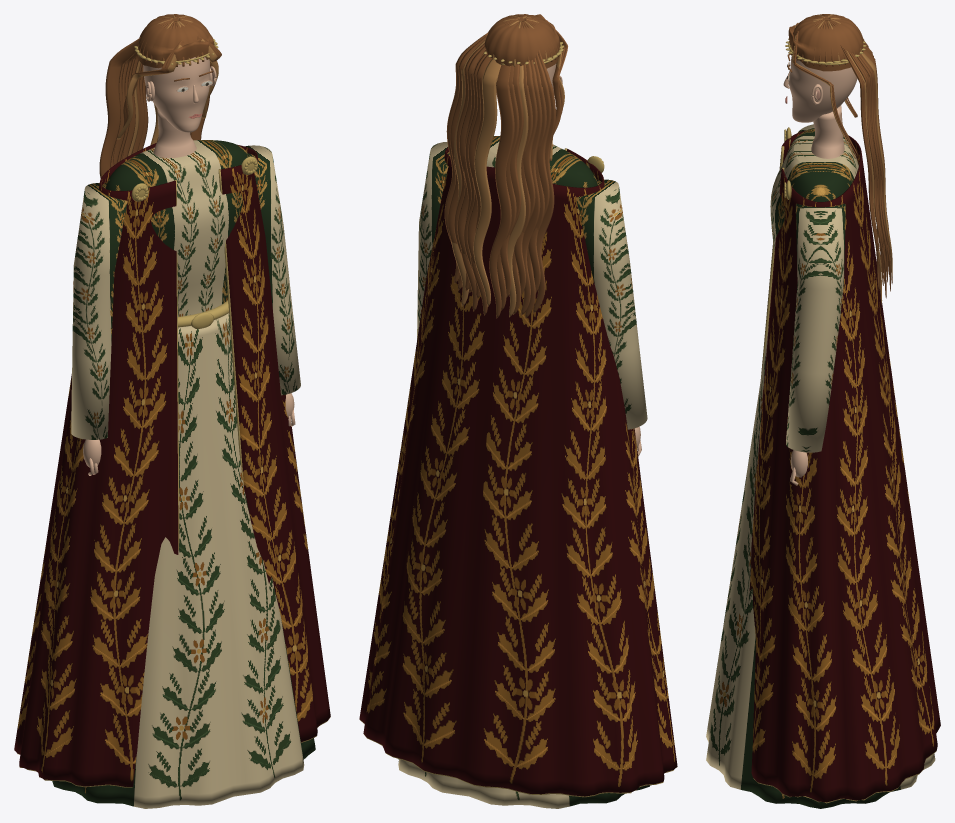
The model's file is princess-v14-standing.glb.
3 views of the same model, side by side, from view 1: azimuth 30°, elevation 25°; view 2: azimuth 150°, elevation 25°; view 3: azimuth 270°, elevation 25° (orthographic).
Parts seen in each view (by area): view 1: cape_surface, MorrisPrincess_surface, body_surface, head_surface, armL_surface, armR_surface; view 2: cape_surface, head_surface, armL_surface, MorrisPrincess_surface, armR_surface, body_surface; view 3: cape_surface, MorrisPrincess_surface, armR_surface, head_surface, body_surface.
Boxes of the visible parts, x1,y1,x2,y2 form: cape_surface: [14, 143, 330, 787]; MorrisPrincess_surface: [52, 313, 315, 808]; body_surface: [105, 109, 257, 328]; head_surface: [99, 14, 221, 178]; armL_surface: [71, 183, 127, 475]; armR_surface: [245, 145, 300, 426]; cape_surface: [359, 147, 677, 797]; head_surface: [444, 14, 567, 318]; armL_surface: [576, 179, 647, 456]; MorrisPrincess_surface: [398, 759, 650, 808]; armR_surface: [417, 142, 449, 339]; body_surface: [486, 136, 604, 187]; cape_surface: [749, 130, 940, 803]; MorrisPrincess_surface: [706, 326, 935, 808]; armR_surface: [786, 203, 845, 485]; head_surface: [783, 14, 892, 304]; body_surface: [770, 105, 858, 299].
Bounding box in the file's own units: 0.6912 × 1.66 × 0.4759.
12 materials, 2 textured.
